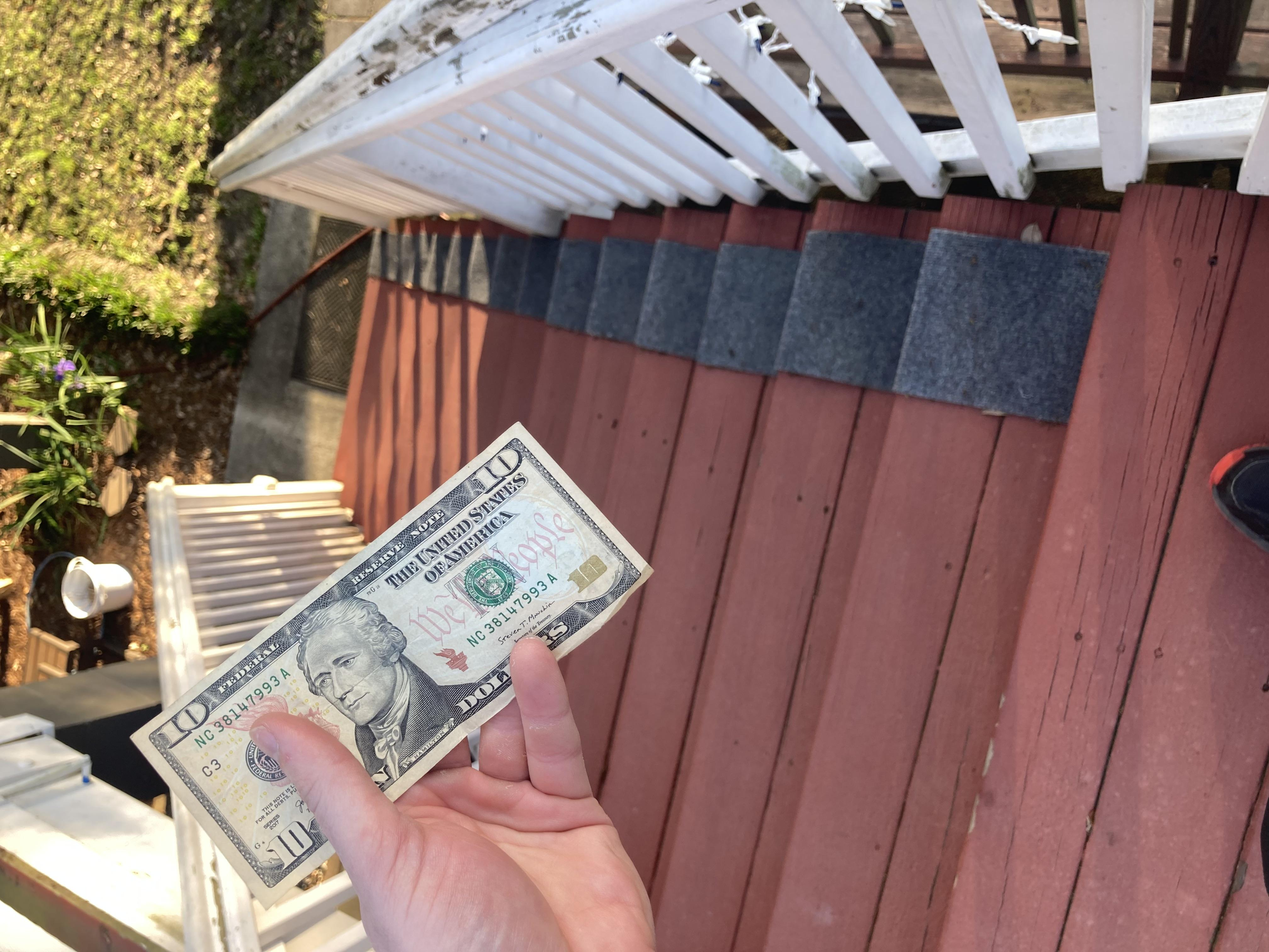ten-front: (57, 98, 708, 494)
